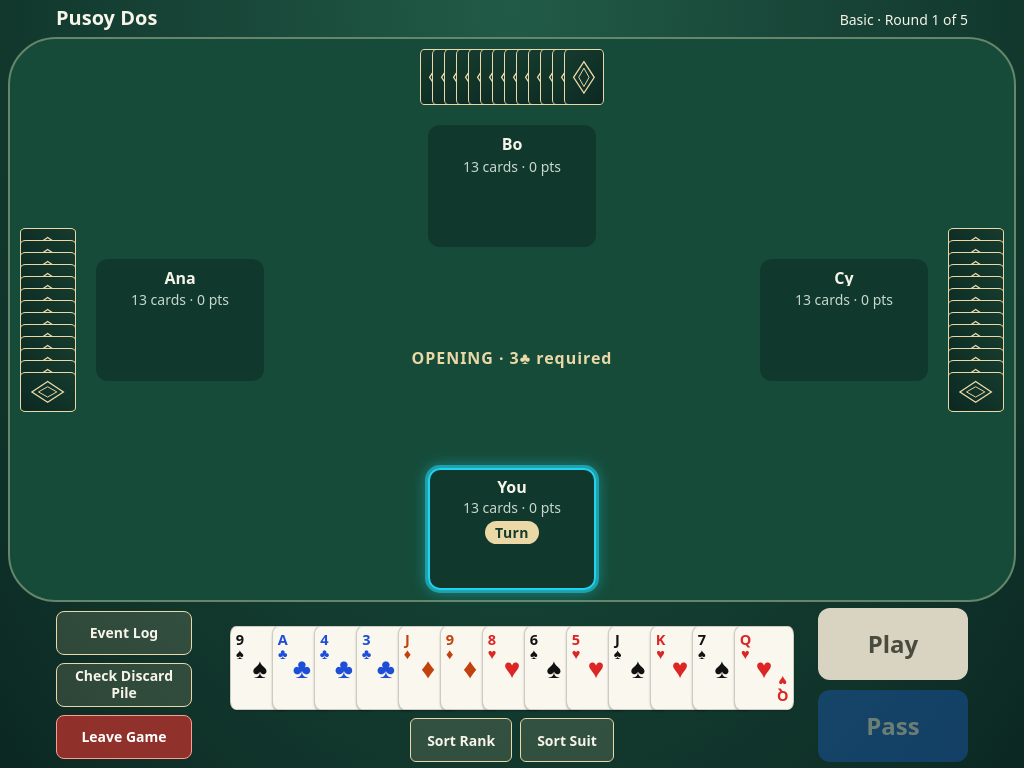
Discard Pile / Event Log overlays pause and resume real Turn advancement (M4-T10) › Discard Pile: pauses progression while open and resumes it from the same point once closed
Click the button "Check Discard Pile".
click(124, 685)  # box [56,663,192,707]
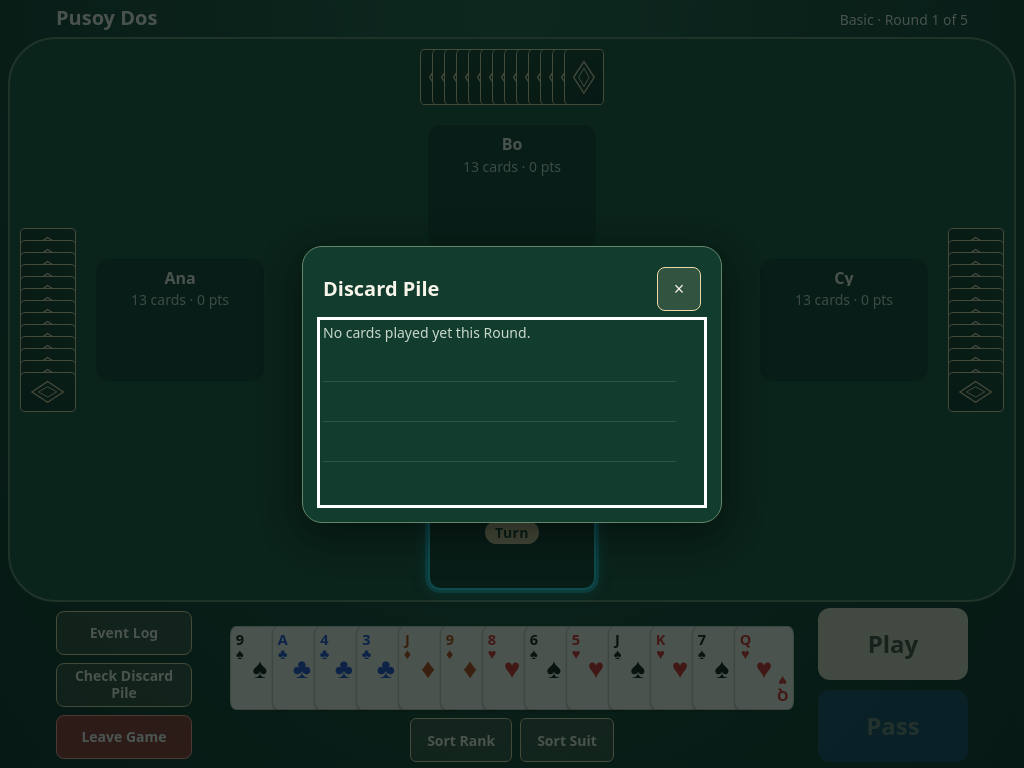
Click the button named "Close Discard Pile".
click(679, 288)  # box [657,266,701,310]
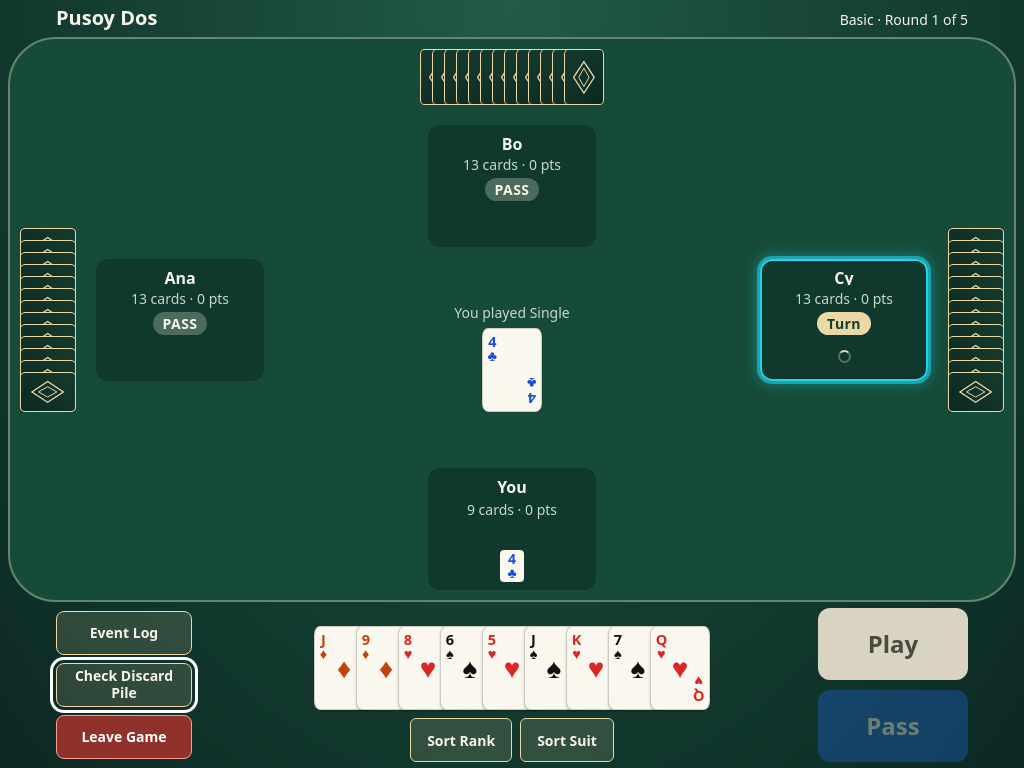
Check: the dialog is gone
